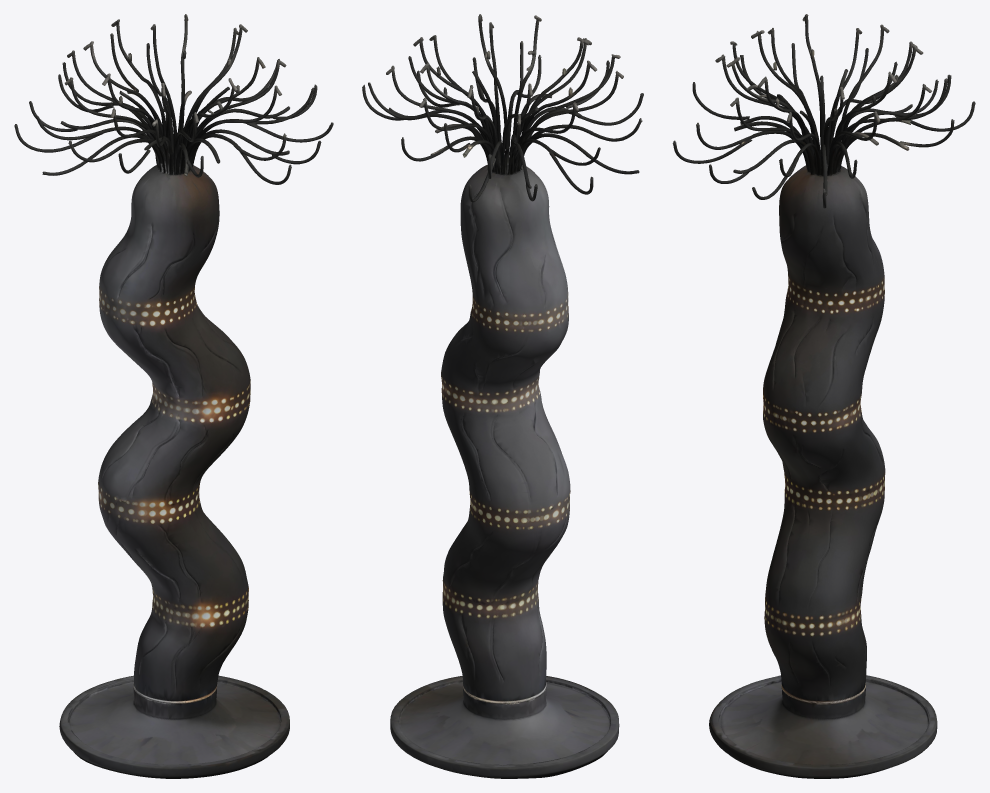
3 views of the same model, side by side, from view 1: azimuth 30°, elevation 25°; view 2: azimuth 150°, elevation 25°; view 3: azimuth 270°, elevation 25° (orthographic).
Parts seen in each view (by area): view 1: tripo_node_0a179beb-b684-4fd4-afb1-58b3c8944b12; view 2: tripo_node_0a179beb-b684-4fd4-afb1-58b3c8944b12; view 3: tripo_node_0a179beb-b684-4fd4-afb1-58b3c8944b12.
Part boxes in pixels (left/top/right/bottom): tripo_node_0a179beb-b684-4fd4-afb1-58b3c8944b12: left=14, top=14, right=333, bottom=778; tripo_node_0a179beb-b684-4fd4-afb1-58b3c8944b12: left=362, top=14, right=643, bottom=778; tripo_node_0a179beb-b684-4fd4-afb1-58b3c8944b12: left=672, top=14, right=975, bottom=778.
Size of the model in its own units: 0.4124 by 0.9805 by 0.3937.
1 material, 1 textured.
